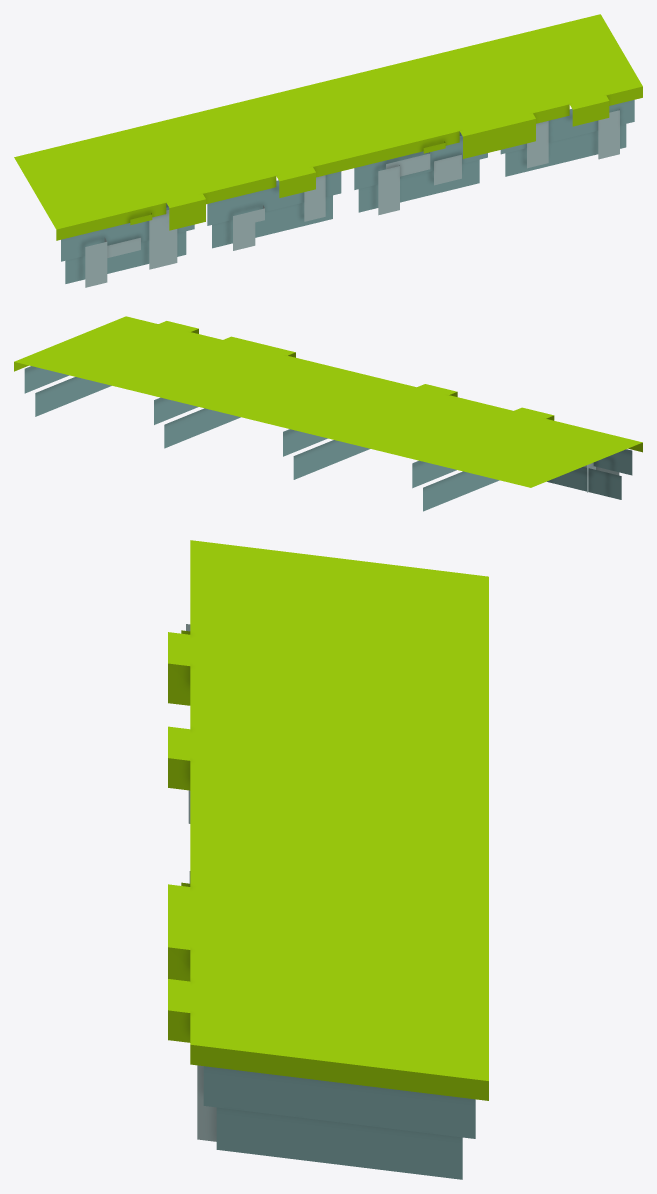
File: Field_Type_01_05.FBX
3 renders of one model, top to bottom at view 1: azimuth 30°, elevation 25°; view 2: azimuth 150°, elevation 25°; view 3: azimuth 270°, elevation 25°, orthographic. The views are drawn at different scales.
Parts seen in each view (by area): view 1: Field_Type_01_05; view 2: Field_Type_01_05; view 3: Field_Type_01_05.
Part boxes in pixels (bbox=[...]): Field_Type_01_05: bbox=[14, 14, 642, 287]; Field_Type_01_05: bbox=[14, 316, 642, 511]; Field_Type_01_05: bbox=[168, 540, 488, 1179].
Bounding box in the file's own units: 92.6 × 9.02 × 23.21.
